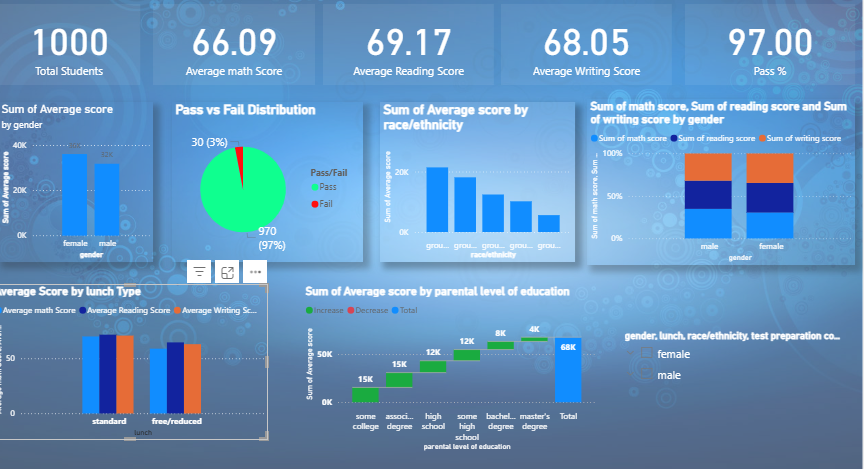

The page's visual inventory and layout, read from the dashboard file:
{"tool":"powerbi","page":{"name":"Page 1","canvas":[1280,720],"ordinal":0},"visuals":[{"type":"card","fields":{"Values":["StudentsPerformance 3.Total Students"]},"box":[10.3,26.4,208.7,119],"z":0},{"type":"card","fields":{"Values":["StudentsPerformance 3.Average math Score"]},"box":[238,26.4,238,119],"z":1},{"type":"card","fields":{"Values":["StudentsPerformance 3.Average Reading Score"]},"box":[487.8,26.4,251.3,119],"z":2},{"type":"card","fields":{"Values":["StudentsPerformance 3.Average Writing Score"]},"box":[749.4,26.4,251.3,119],"z":3},{"type":"card","fields":{"Values":["StudentsPerformance 3.Pass %"]},"box":[1019.8,26.4,249.8,119],"z":4},{"type":"clusteredColumnChart","fields":{"Category":["StudentsPerformance 3.gender"],"Y":["Sum(StudentsPerformance 3.Average score)"]},"box":[10.3,170.4,227.8,235.1],"z":5},{"type":"pieChart","title":"Pass vs Fail Distribution","fields":{"Y":["CountNonNull(StudentsPerformance 3.Pass/Fail)"],"Category":["StudentsPerformance 3.Pass/Fail"]},"box":[266,170.4,280.7,235.1],"z":6},{"type":"columnChart","fields":{"Category":["StudentsPerformance 3.race/ethnicity"],"Y":["Sum(StudentsPerformance 3.Average score)"]},"box":[571.6,170.4,286.5,235.1],"z":7},{"type":"hundredPercentStackedColumnChart","fields":{"Category":["StudentsPerformance 3.gender"],"Y":["Sum(StudentsPerformance 3.math score)","Sum(StudentsPerformance 3.reading score)","Sum(StudentsPerformance 3.writing score)"]},"box":[875.8,166,393.8,243.9],"z":9},{"type":"clusteredColumnChart","title":"Average Score by lunch Type","fields":{"Category":["StudentsPerformance 3.lunch"],"Y":["StudentsPerformance 3.Average math Score","StudentsPerformance 3.Average Reading Score","StudentsPerformance 3.Average Writing Score"]},"box":[10.3,423.2,396.7,254.2],"z":10},{"type":"waterfallChart","fields":{"Category":["StudentsPerformance 3.parental level of education"],"Y":["Sum(StudentsPerformance 3.Average score)"]},"box":[421.7,426.1,436.4,249.8],"z":11},{"type":"slicer","fields":{"Values":["StudentsPerformance 3.gender","StudentsPerformance 3.lunch","StudentsPerformance 3.race/ethnicity","StudentsPerformance 3.test preparation course"]},"box":[889,464.3,380.6,86.7],"z":12}]}

Visuals, with their boxes on the page's 1280x720 design canvas (x1, y1, x2, y2). These are canvas units, not pixel positions in the 864x469 screenshot, which may show the page scaled, cropped or inside an application window:
card - StudentsPerformance 3.Total Students: (left=10, top=26, right=219, bottom=145)
card - StudentsPerformance 3.Average math Score: (left=238, top=26, right=476, bottom=145)
card - StudentsPerformance 3.Average Reading Score: (left=488, top=26, right=739, bottom=145)
card - StudentsPerformance 3.Average Writing Score: (left=749, top=26, right=1001, bottom=145)
card - StudentsPerformance 3.Pass %: (left=1020, top=26, right=1270, bottom=145)
clusteredColumnChart - StudentsPerformance 3.gender x Sum(StudentsPerformance 3.Average score): (left=10, top=170, right=238, bottom=406)
"Pass vs Fail Distribution" pieChart: (left=266, top=170, right=547, bottom=406)
columnChart - StudentsPerformance 3.race/ethnicity x Sum(StudentsPerformance 3.Average score): (left=572, top=170, right=858, bottom=406)
hundredPercentStackedColumnChart - StudentsPerformance 3.gender x Sum(StudentsPerformance 3.math score): (left=876, top=166, right=1270, bottom=410)
"Average Score by lunch Type" clusteredColumnChart: (left=10, top=423, right=407, bottom=677)
waterfallChart - StudentsPerformance 3.parental level of education x Sum(StudentsPerformance 3.Average score): (left=422, top=426, right=858, bottom=676)
slicer - StudentsPerformance 3.gender x StudentsPerformance 3.lunch: (left=889, top=464, right=1270, bottom=551)
